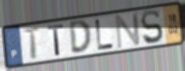D: (68, 19, 93, 55)
L: (94, 18, 115, 52)
N: (114, 11, 142, 51)
S: (140, 9, 165, 46)
T: (22, 27, 42, 61), (46, 23, 66, 57)
